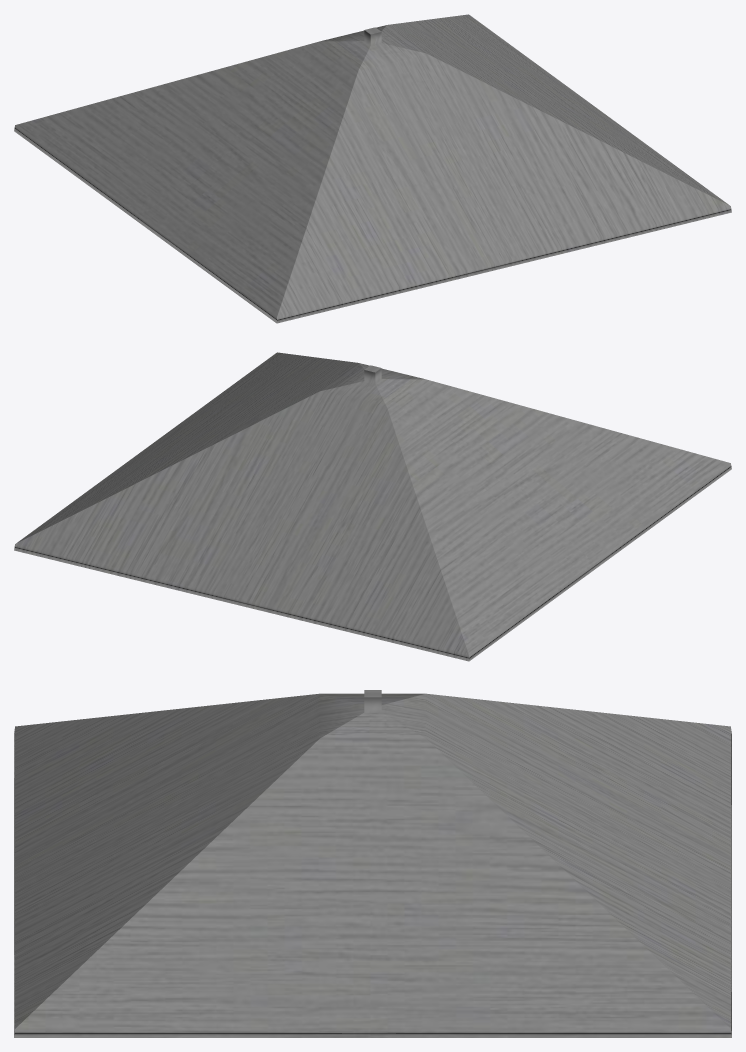
File: coneRoof.obj
3 views of the same model, one above another, from view 1: azimuth 30°, elevation 25°; view 2: azimuth 150°, elevation 25°; view 3: azimuth 270°, elevation 25° (orthographic). The views are drawn at different scales.
Visible parts, largest first — view 1: pCube3; view 2: pCube3; view 3: pCube3.
Part boxes in pixels (<box>): pCube3: <box>14,14,731,323</box>; pCube3: <box>14,352,731,661</box>; pCube3: <box>14,690,731,1037</box>.
Size of the model in its own units: 99.86 by 29.54 by 99.86.
1 material, 1 textured.
